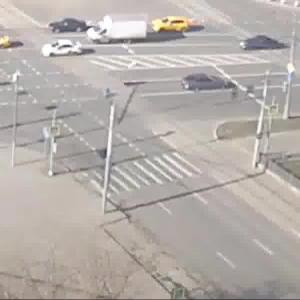car: (85, 22, 150, 49), (232, 29, 276, 54), (41, 41, 92, 61), (48, 16, 87, 42), (186, 72, 228, 96), (150, 16, 192, 39)
